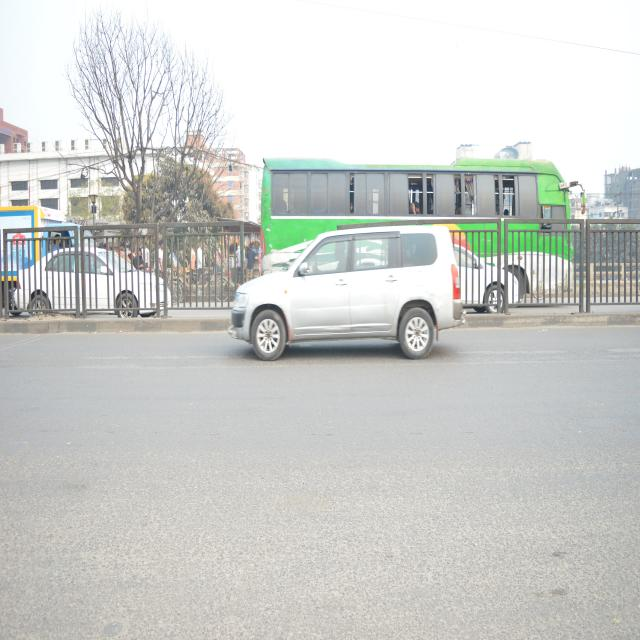car: (208, 215, 482, 383), (0, 241, 180, 326)
